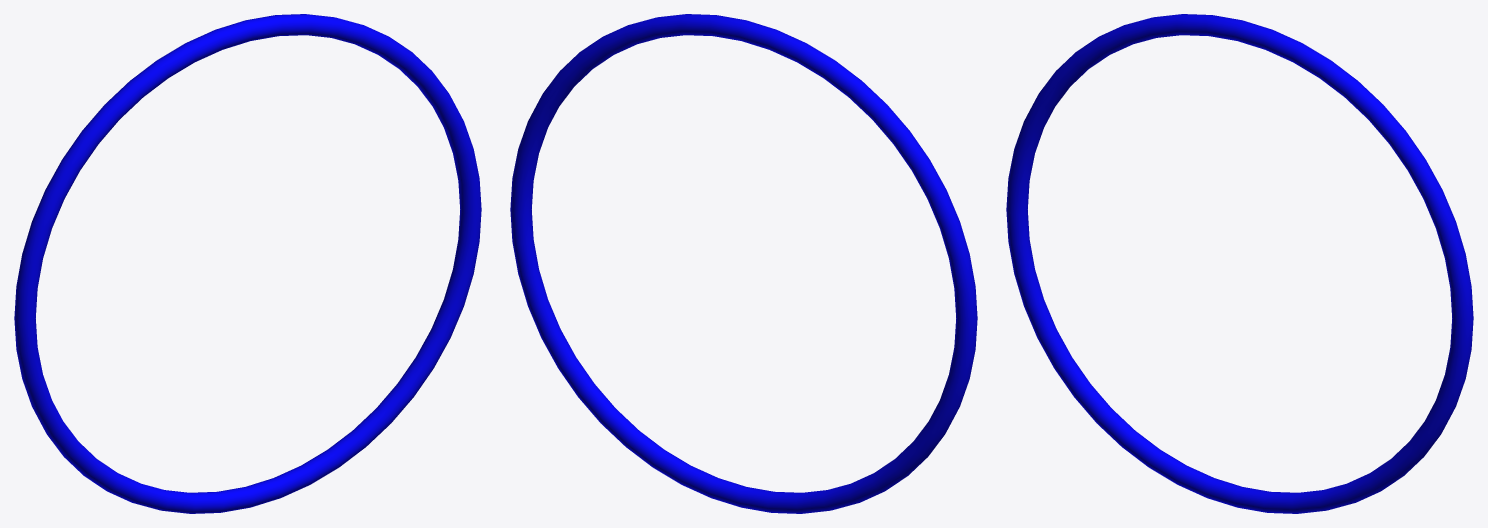
Rendered from Giz_rot_z.obj.
3 views of the same model, side by side, from view 1: azimuth 30°, elevation 25°; view 2: azimuth 150°, elevation 25°; view 3: azimuth 330°, elevation 25° (orthographic).
Visible parts, largest first — view 1: EjeZ_Torus.001; view 2: EjeZ_Torus.001; view 3: EjeZ_Torus.001.
Part boxes in pixels (left/top/right/bottom): EjeZ_Torus.001: left=14, top=14, right=481, bottom=513; EjeZ_Torus.001: left=510, top=14, right=977, bottom=513; EjeZ_Torus.001: left=1006, top=14, right=1473, bottom=513.
Size of the model in its own units: 3.44 by 3.44 by 0.1375.
